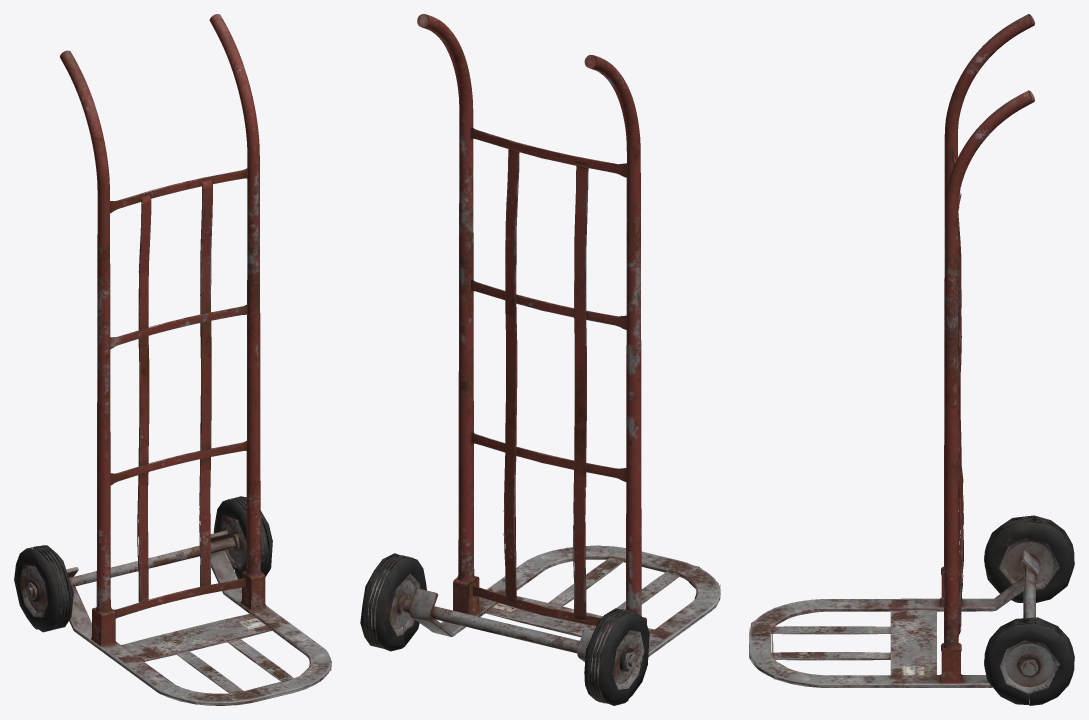
File: hand_truck.glb
3 renders of one model, left to right at view 1: azimuth 30°, elevation 25°; view 2: azimuth 150°, elevation 25°; view 3: azimuth 270°, elevation 25°, orthographic. The views are drawn at different scales.
Parts seen in each view (by area): view 1: hand_truck; view 2: hand_truck; view 3: hand_truck.
Part boxes in pixels (bbox=[...]): hand_truck: bbox=[14, 14, 331, 705]; hand_truck: bbox=[360, 14, 720, 705]; hand_truck: bbox=[749, 14, 1074, 705].
Size of the model in its own units: 0.5933 by 1.4 by 0.6933.
1 material, 1 textured.
